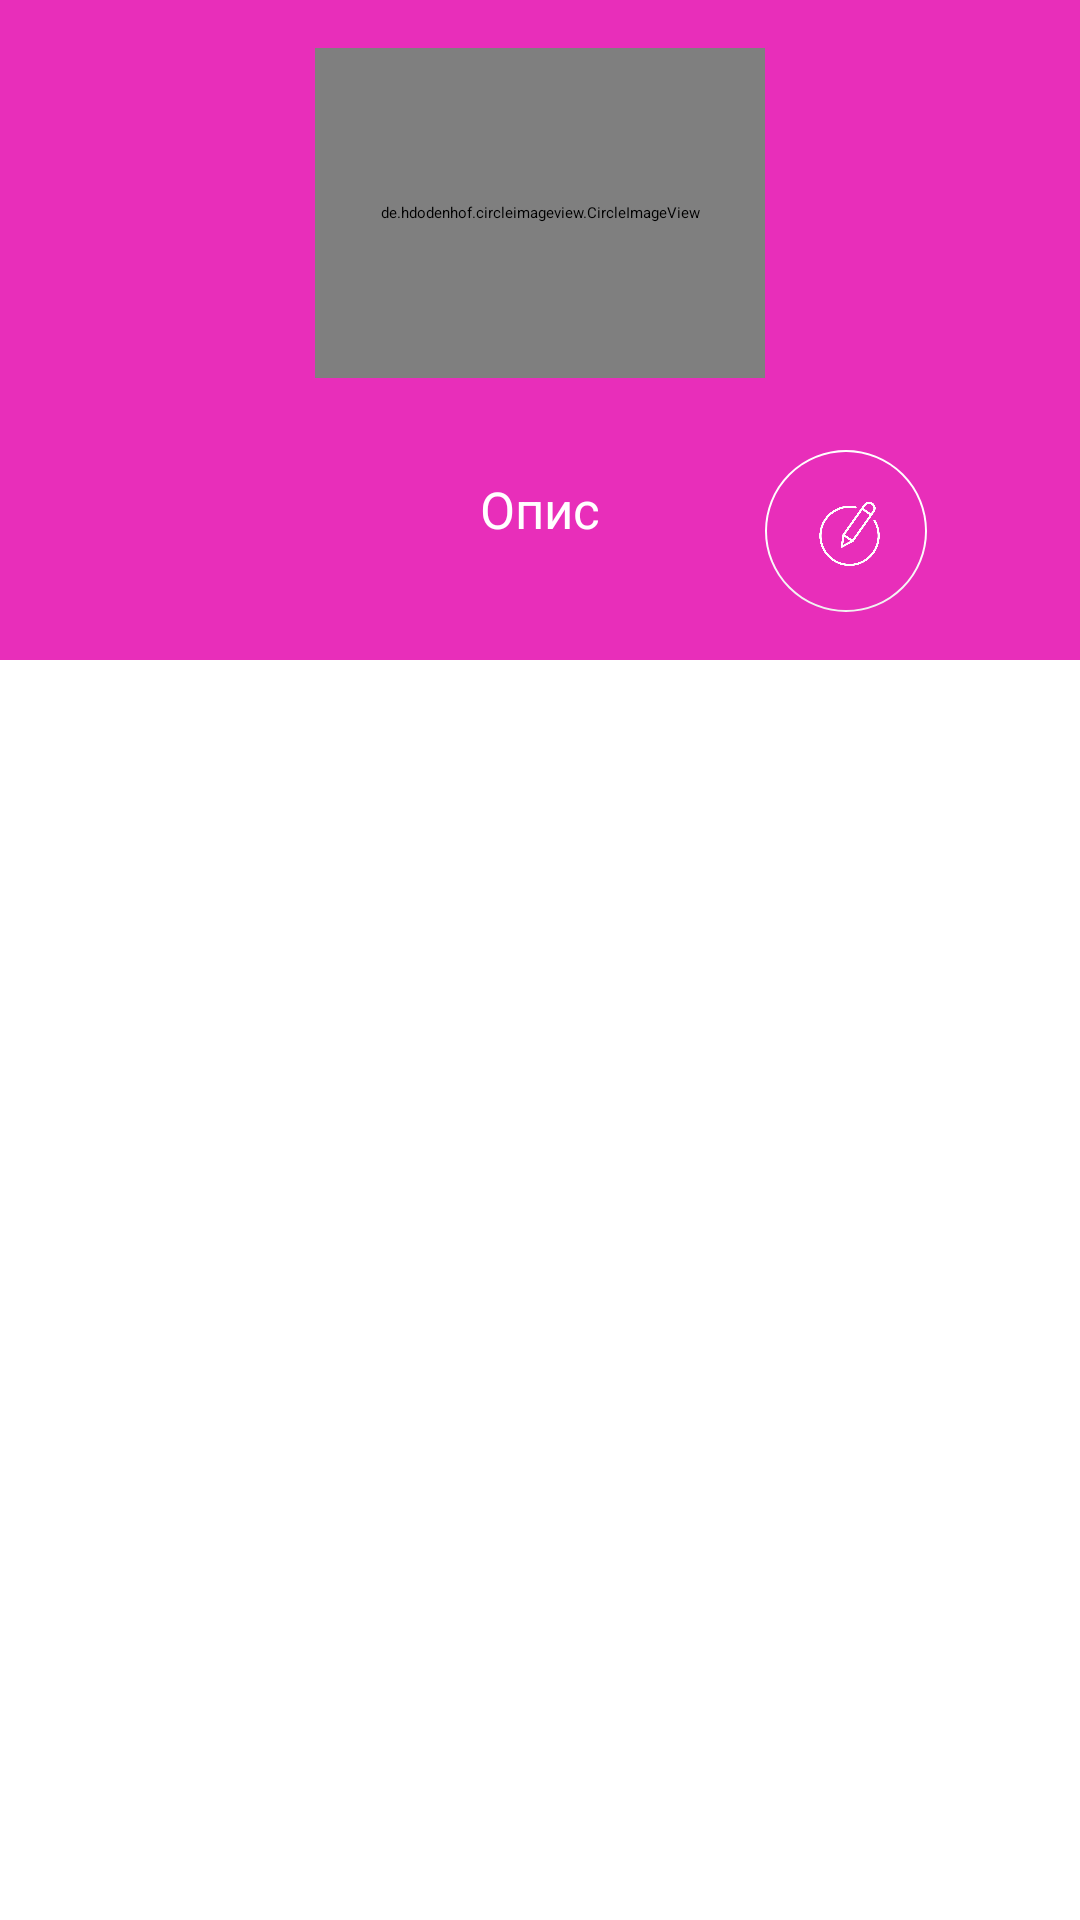

Locate icon controls on the screen. Image size 1080*1920, boxes as [x1,y1,x2,y2].
edit: [765,450,927,612]
